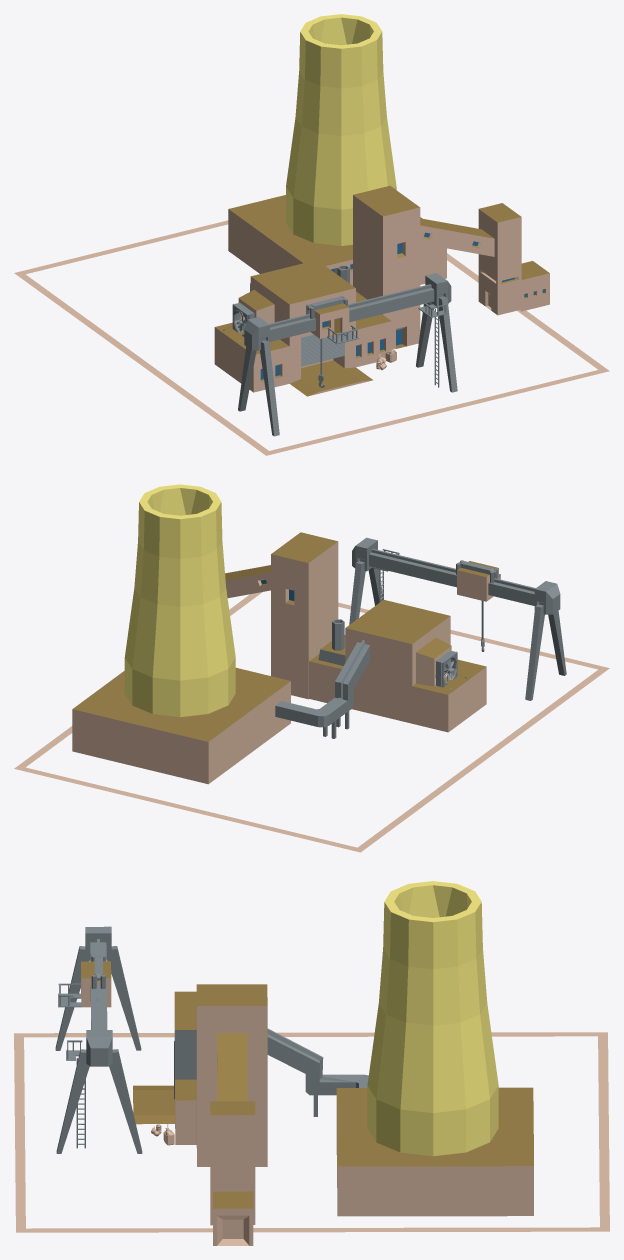
The model's file is FactoryForest _1.fbx.
3 renders of one model, top to bottom at view 1: azimuth 30°, elevation 25°; view 2: azimuth 150°, elevation 25°; view 3: azimuth 270°, elevation 25°, orthographic. The views are drawn at different scales.
Visible parts, largest first — view 1: Cube; view 2: Cube; view 3: Cube.
Boxes of the visible parts, <box> form: Cube: <box>14,14,609,455</box>; Cube: <box>14,484,609,852</box>; Cube: <box>14,881,609,1245</box>.
Size of the model in its own units: 433 by 262 by 510.
